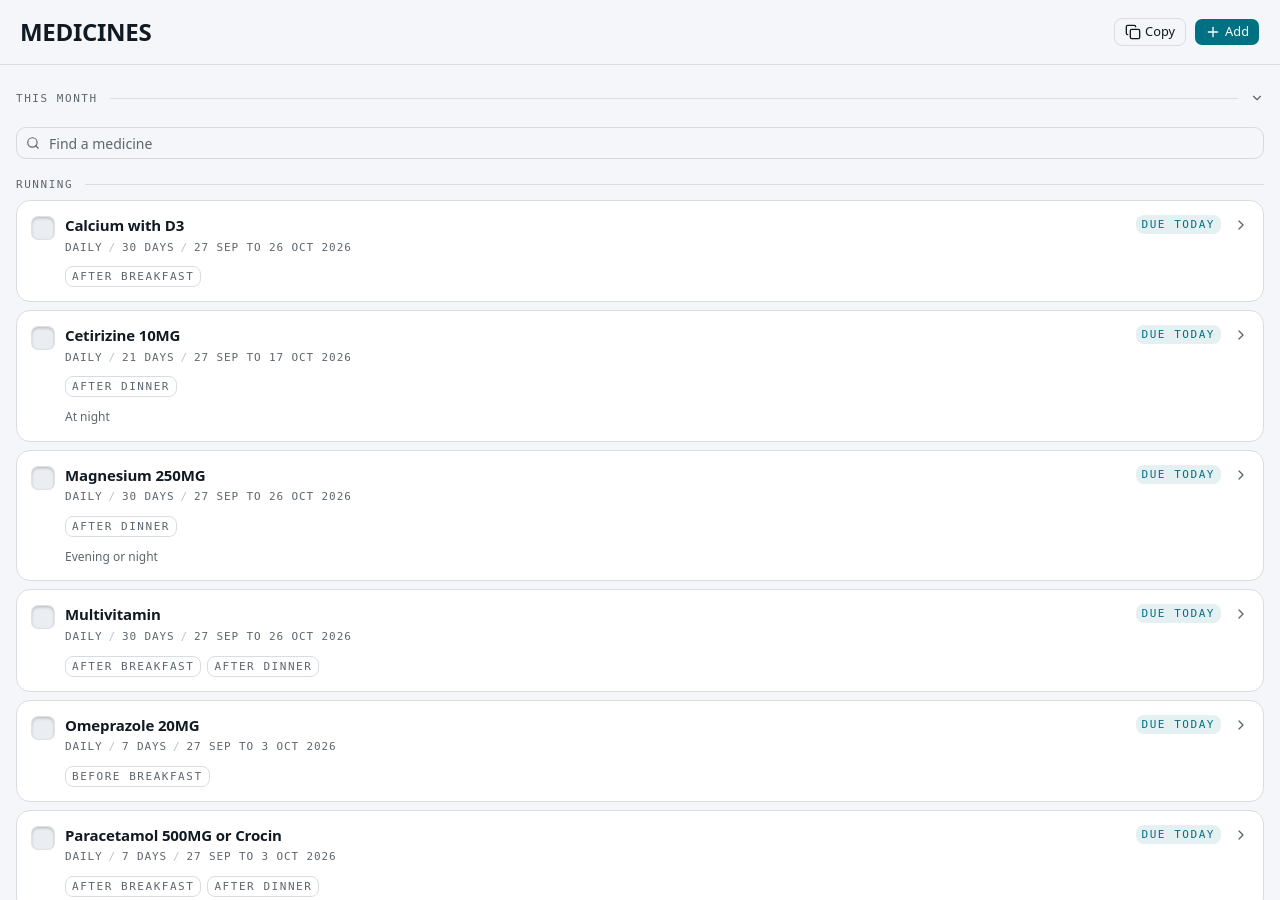
Test: the Medicines screen › says when nothing matches, and offers the way back
The image size is (1280, 900).
Type "ibuprofen" into the search field labelled "Find a medicine" at {"x": 640, "y": 143}, box [16,127,1264,159]
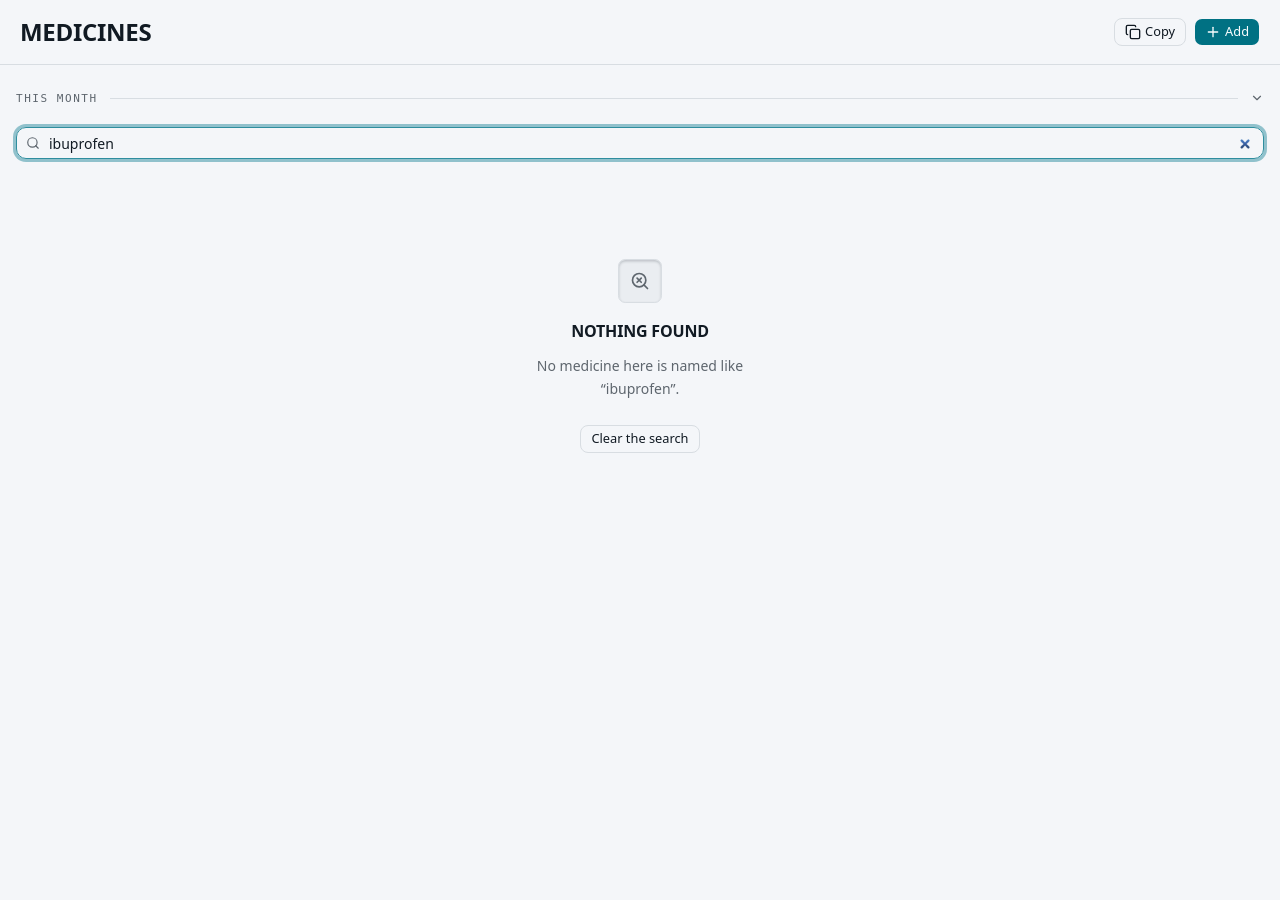
Expected: the heading "Nothing found" is shown, [571,319,709,343]
Expected: the text "Running" is gone
Click the button "Clear the search" at {"x": 640, "y": 438}, box [580,424,700,452]
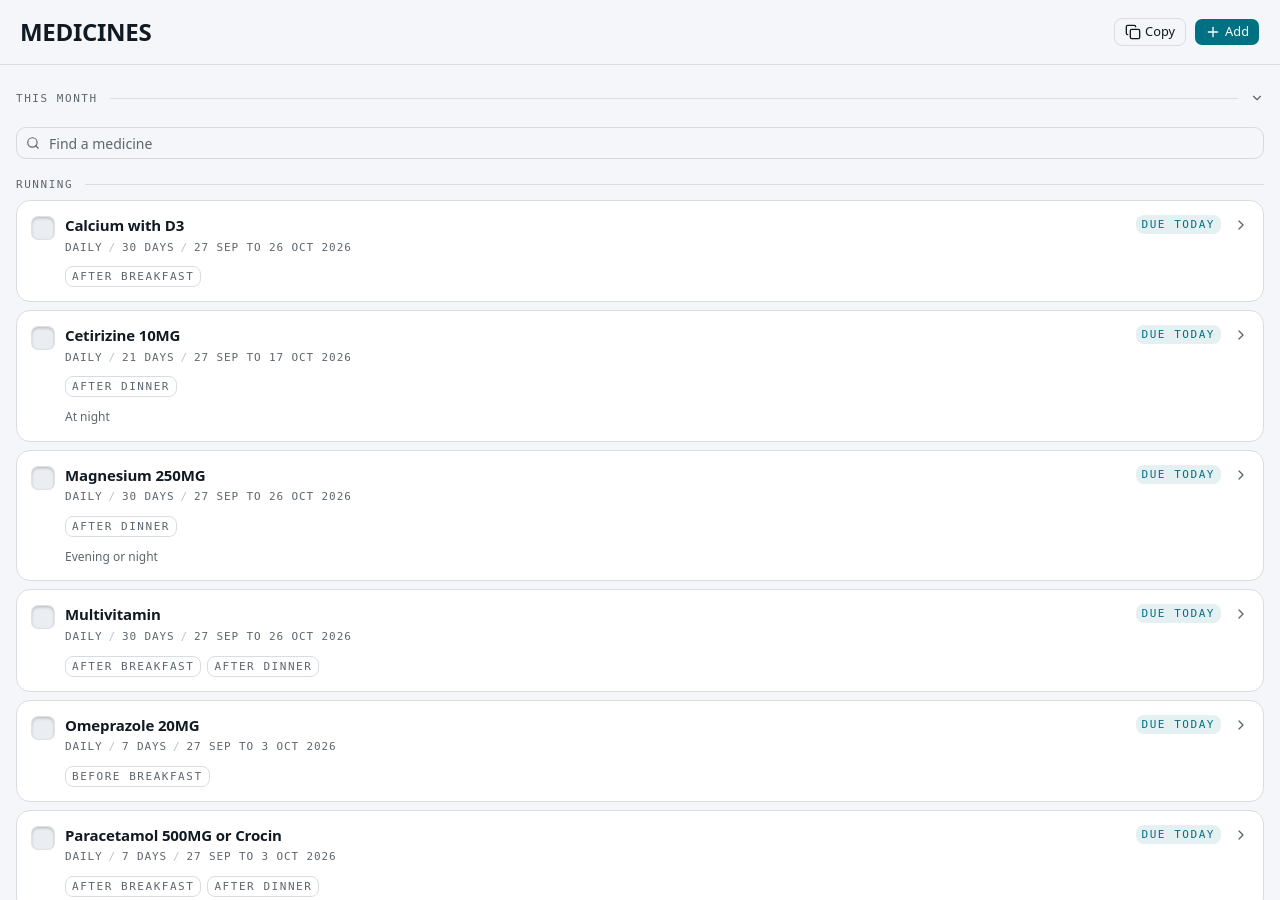
Expected: the heading "Multivitamin" is shown, [65,604,161,624]
